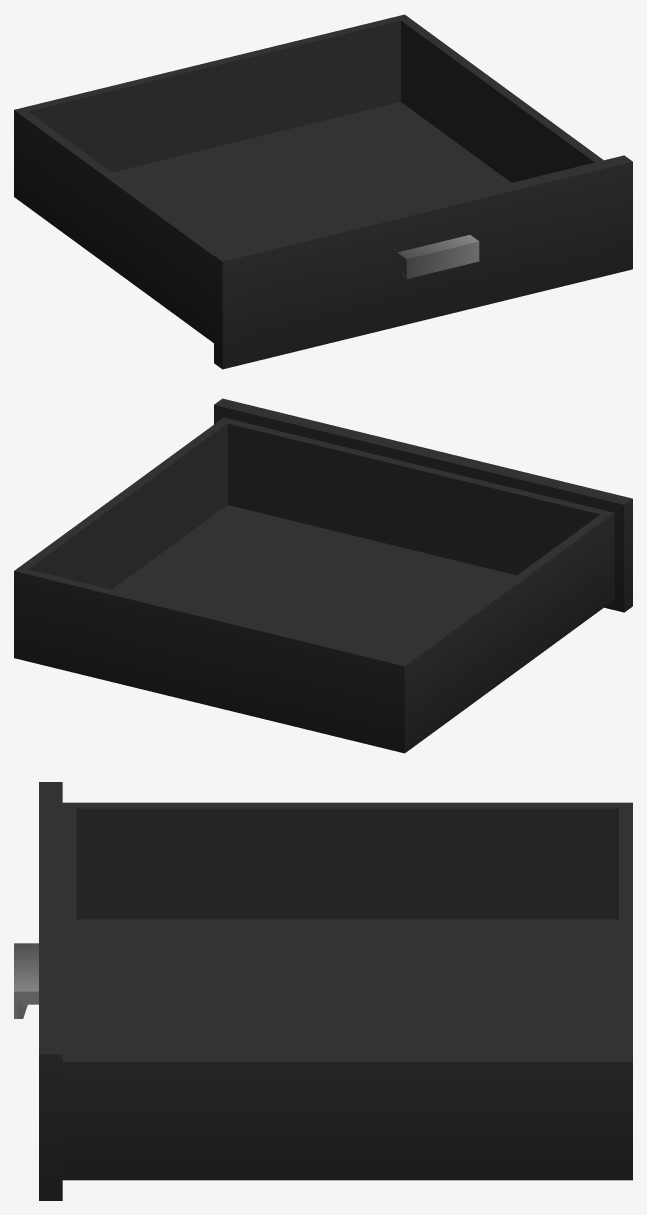
File: Drawer_SideboardCabinet_Black_small.fbx
The picture shows the model from 3 angles, top to bottom: view 1: azimuth 30°, elevation 25°; view 2: azimuth 150°, elevation 25°; view 3: azimuth 270°, elevation 25°; orthographic projection. The views are drawn at different scales.
Visible parts, largest first — view 1: Drawer_SideboardCabinet_Black_small; view 2: Drawer_SideboardCabinet_Black_small; view 3: Drawer_SideboardCabinet_Black_small.
Part boxes in pixels (x1,y1,x2,y2): Drawer_SideboardCabinet_Black_small: (14,14,632,369); Drawer_SideboardCabinet_Black_small: (14,398,632,753); Drawer_SideboardCabinet_Black_small: (14,782,632,1200).
Size of the model in its own units: 67.5 by 16.92 by 64.83.
